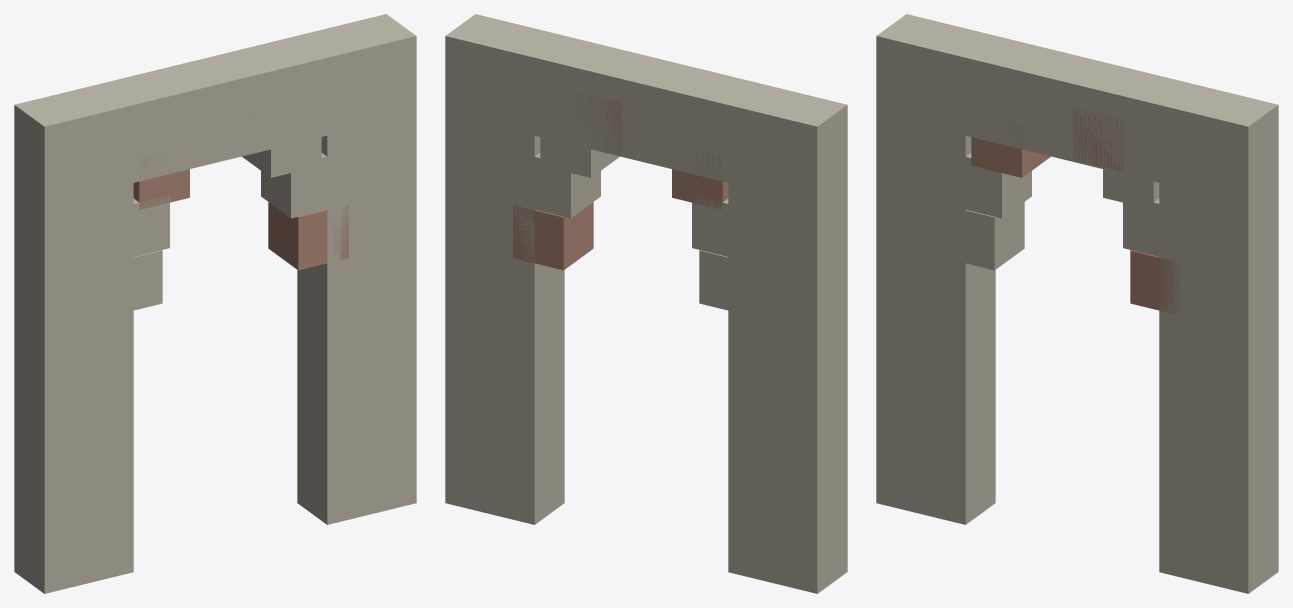
The model's file is iz3_historic_detail_01.glb.
3 renders of one model, left to right at view 1: azimuth 30°, elevation 25°; view 2: azimuth 150°, elevation 25°; view 3: azimuth 330°, elevation 25°, orthographic.
Visible parts, largest first — view 1: pier_l, pier_r, spandrel, voussoir_00, voussoir_01, voussoir_08, voussoir_07, voussoir_02, voussoir_06; view 2: pier_l, pier_r, spandrel, voussoir_00, voussoir_01, voussoir_08, voussoir_07, voussoir_02, voussoir_05, voussoir_06, voussoir_04, voussoir_03; view 3: pier_r, pier_l, spandrel, voussoir_08, voussoir_07, voussoir_00, voussoir_01, voussoir_03, voussoir_06, voussoir_02, voussoir_04, voussoir_05.
Part boxes in pixels (left/top/right/bottom): pier_l: left=14, top=83, right=133, bottom=593; pier_r: left=297, top=14, right=416, bottom=524; spandrel: left=98, top=34, right=332, bottom=183; voussoir_00: left=268, top=202, right=348, bottom=270; voussoir_01: left=261, top=153, right=341, bottom=218; voussoir_08: left=112, top=250, right=162, bottom=315; voussoir_07: left=119, top=195, right=169, bottom=259; voussoir_02: left=242, top=117, right=321, bottom=177; voussoir_06: left=133, top=149, right=189, bottom=209; pier_l: left=728, top=83, right=847, bottom=593; pier_r: left=445, top=14, right=564, bottom=524; spandrel: left=529, top=34, right=762, bottom=183; voussoir_00: left=513, top=202, right=593, bottom=270; voussoir_01: left=520, top=153, right=600, bottom=218; voussoir_08: left=699, top=250, right=749, bottom=314; voussoir_07: left=692, top=196, right=742, bottom=260; voussoir_02: left=540, top=121, right=619, bottom=177; voussoir_05: left=641, top=108, right=692, bottom=171; voussoir_06: left=672, top=150, right=728, bottom=209; voussoir_04: left=607, top=88, right=656, bottom=152; voussoir_03: left=570, top=92, right=621, bottom=154; pier_r: left=1159, top=83, right=1278, bottom=593; pier_l: left=876, top=14, right=995, bottom=524; spandrel: left=960, top=34, right=1194, bottom=183; voussoir_08: left=944, top=202, right=1024, bottom=270; voussoir_07: left=951, top=153, right=1031, bottom=218; voussoir_00: left=1130, top=250, right=1180, bottom=314; voussoir_01: left=1123, top=195, right=1173, bottom=260; voussoir_03: left=1072, top=107, right=1123, bottom=171; voussoir_06: left=971, top=121, right=1050, bottom=177; voussoir_02: left=1103, top=146, right=1159, bottom=207; voussoir_04: left=1037, top=88, right=1087, bottom=152; voussoir_05: left=1001, top=92, right=1052, bottom=154.
Size of the model in its own units: 2.5 by 3 by 0.35.
